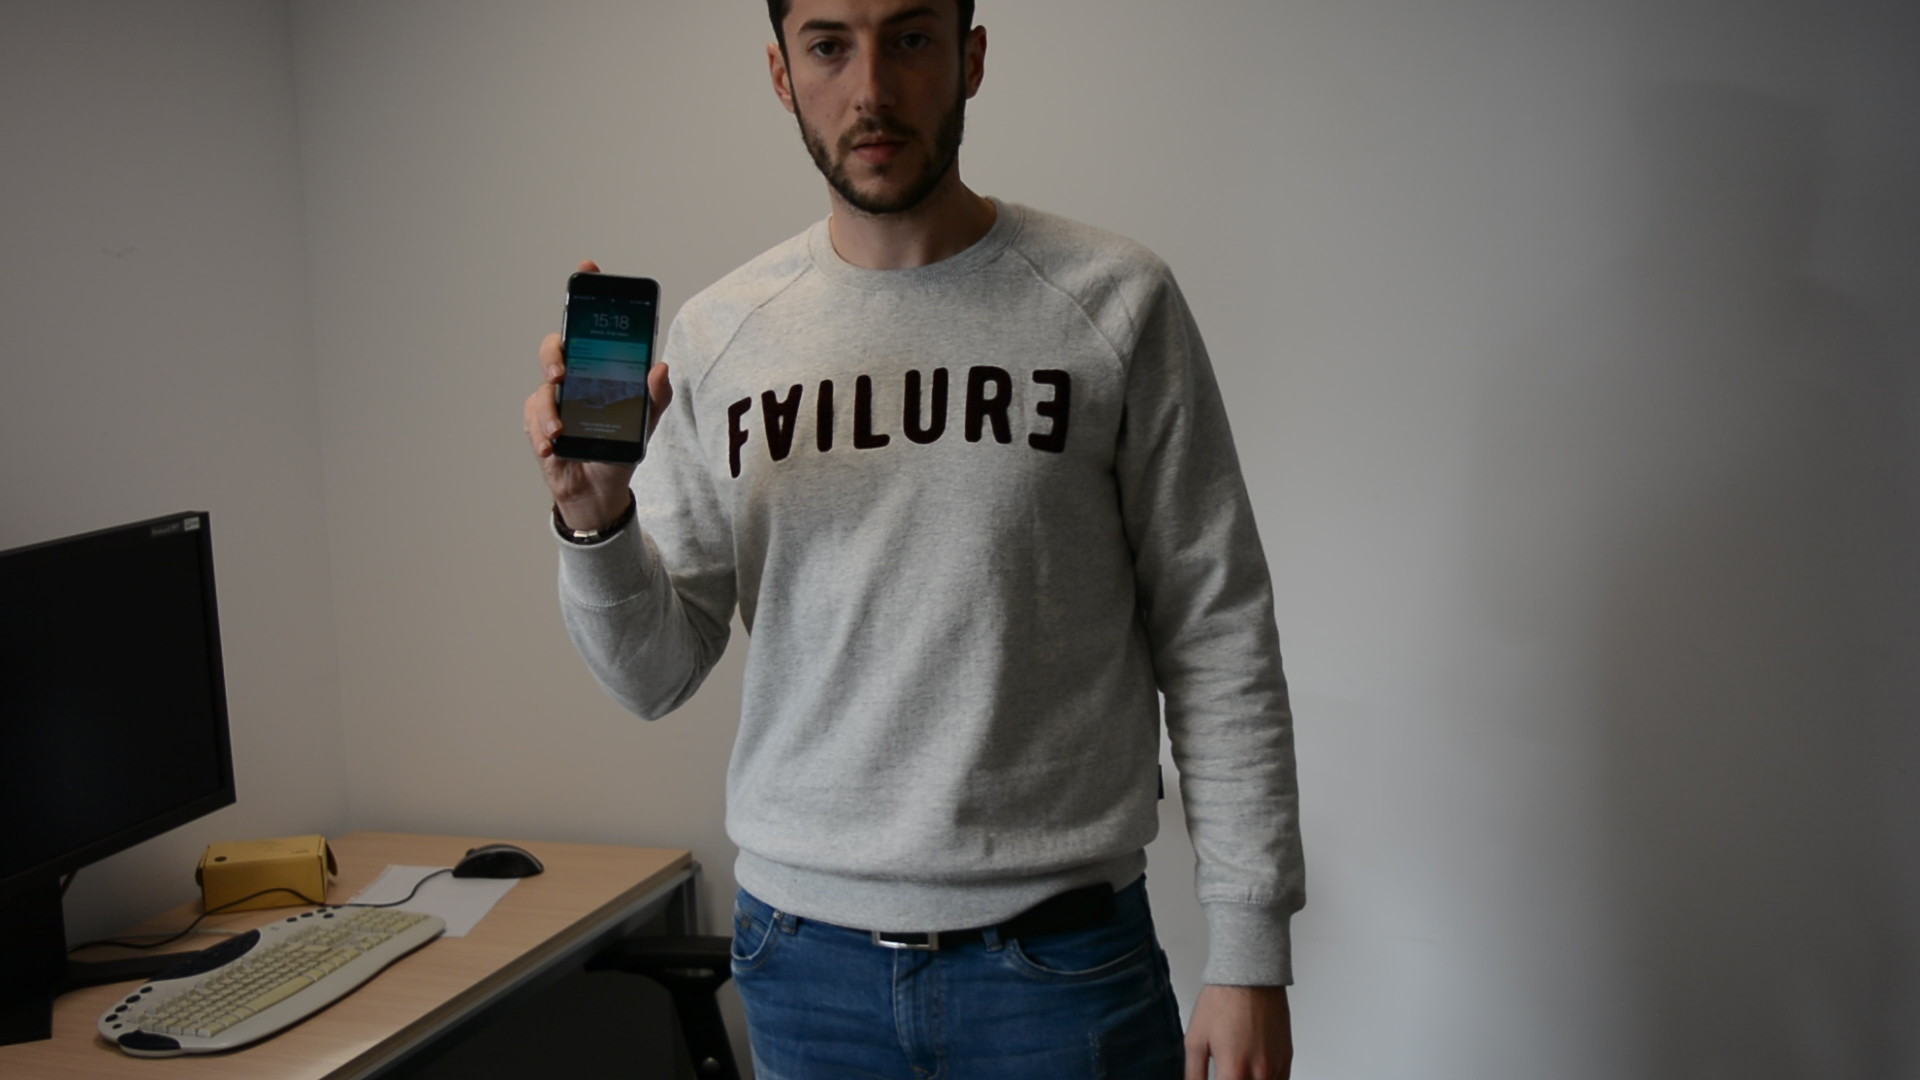smartphone: (549, 270, 663, 468)
